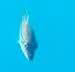smallfish: (13, 5, 42, 64)
